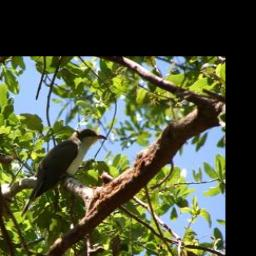Cuckoo: (22, 128, 110, 218)
